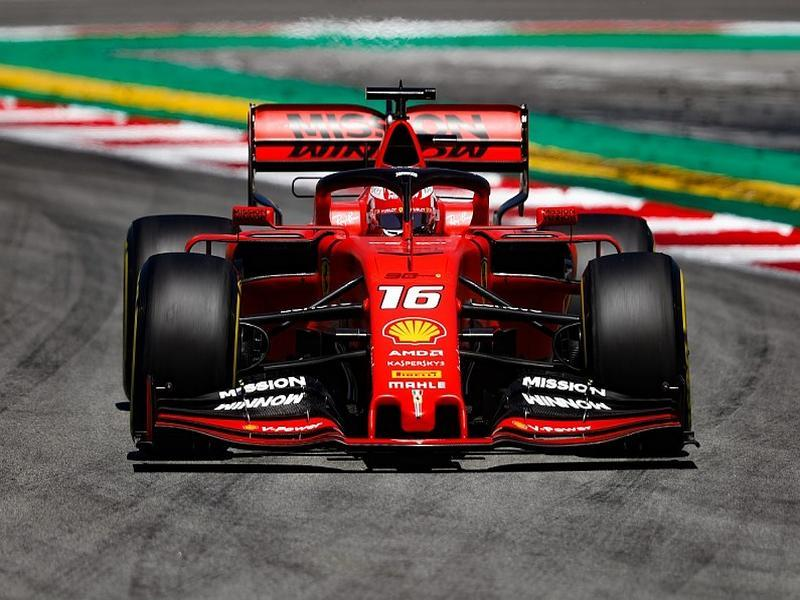racecar: (120, 87, 708, 476)
